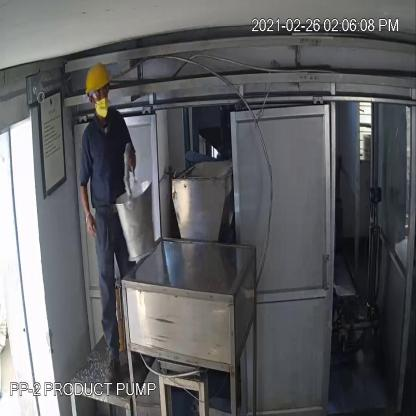helmet: (80, 58, 116, 102)
